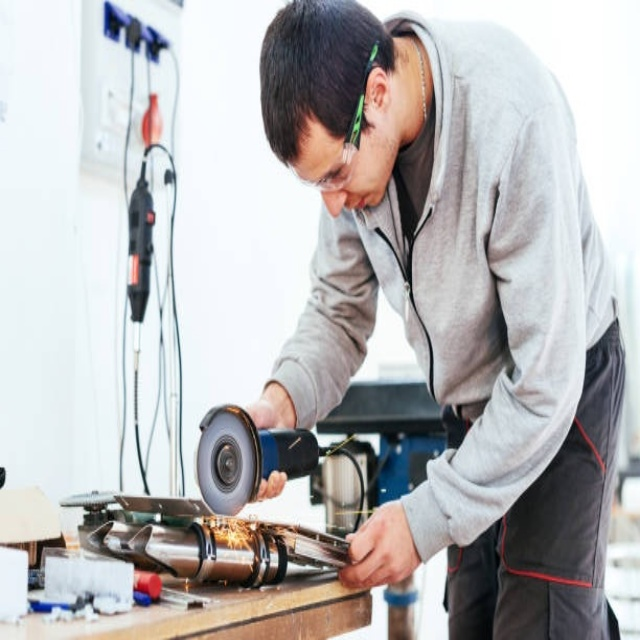Gafas: (294, 48, 376, 194)
Sin_guantes: (335, 499, 421, 593), (255, 468, 288, 503)
Sin_mascara: (340, 190, 383, 224)
